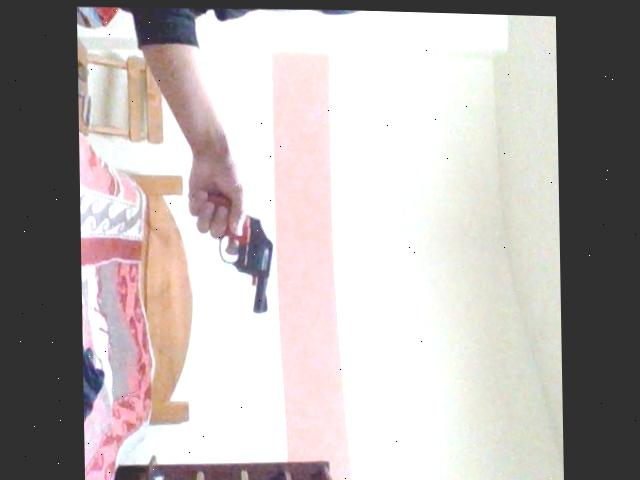pistol: (176, 161, 296, 349)
